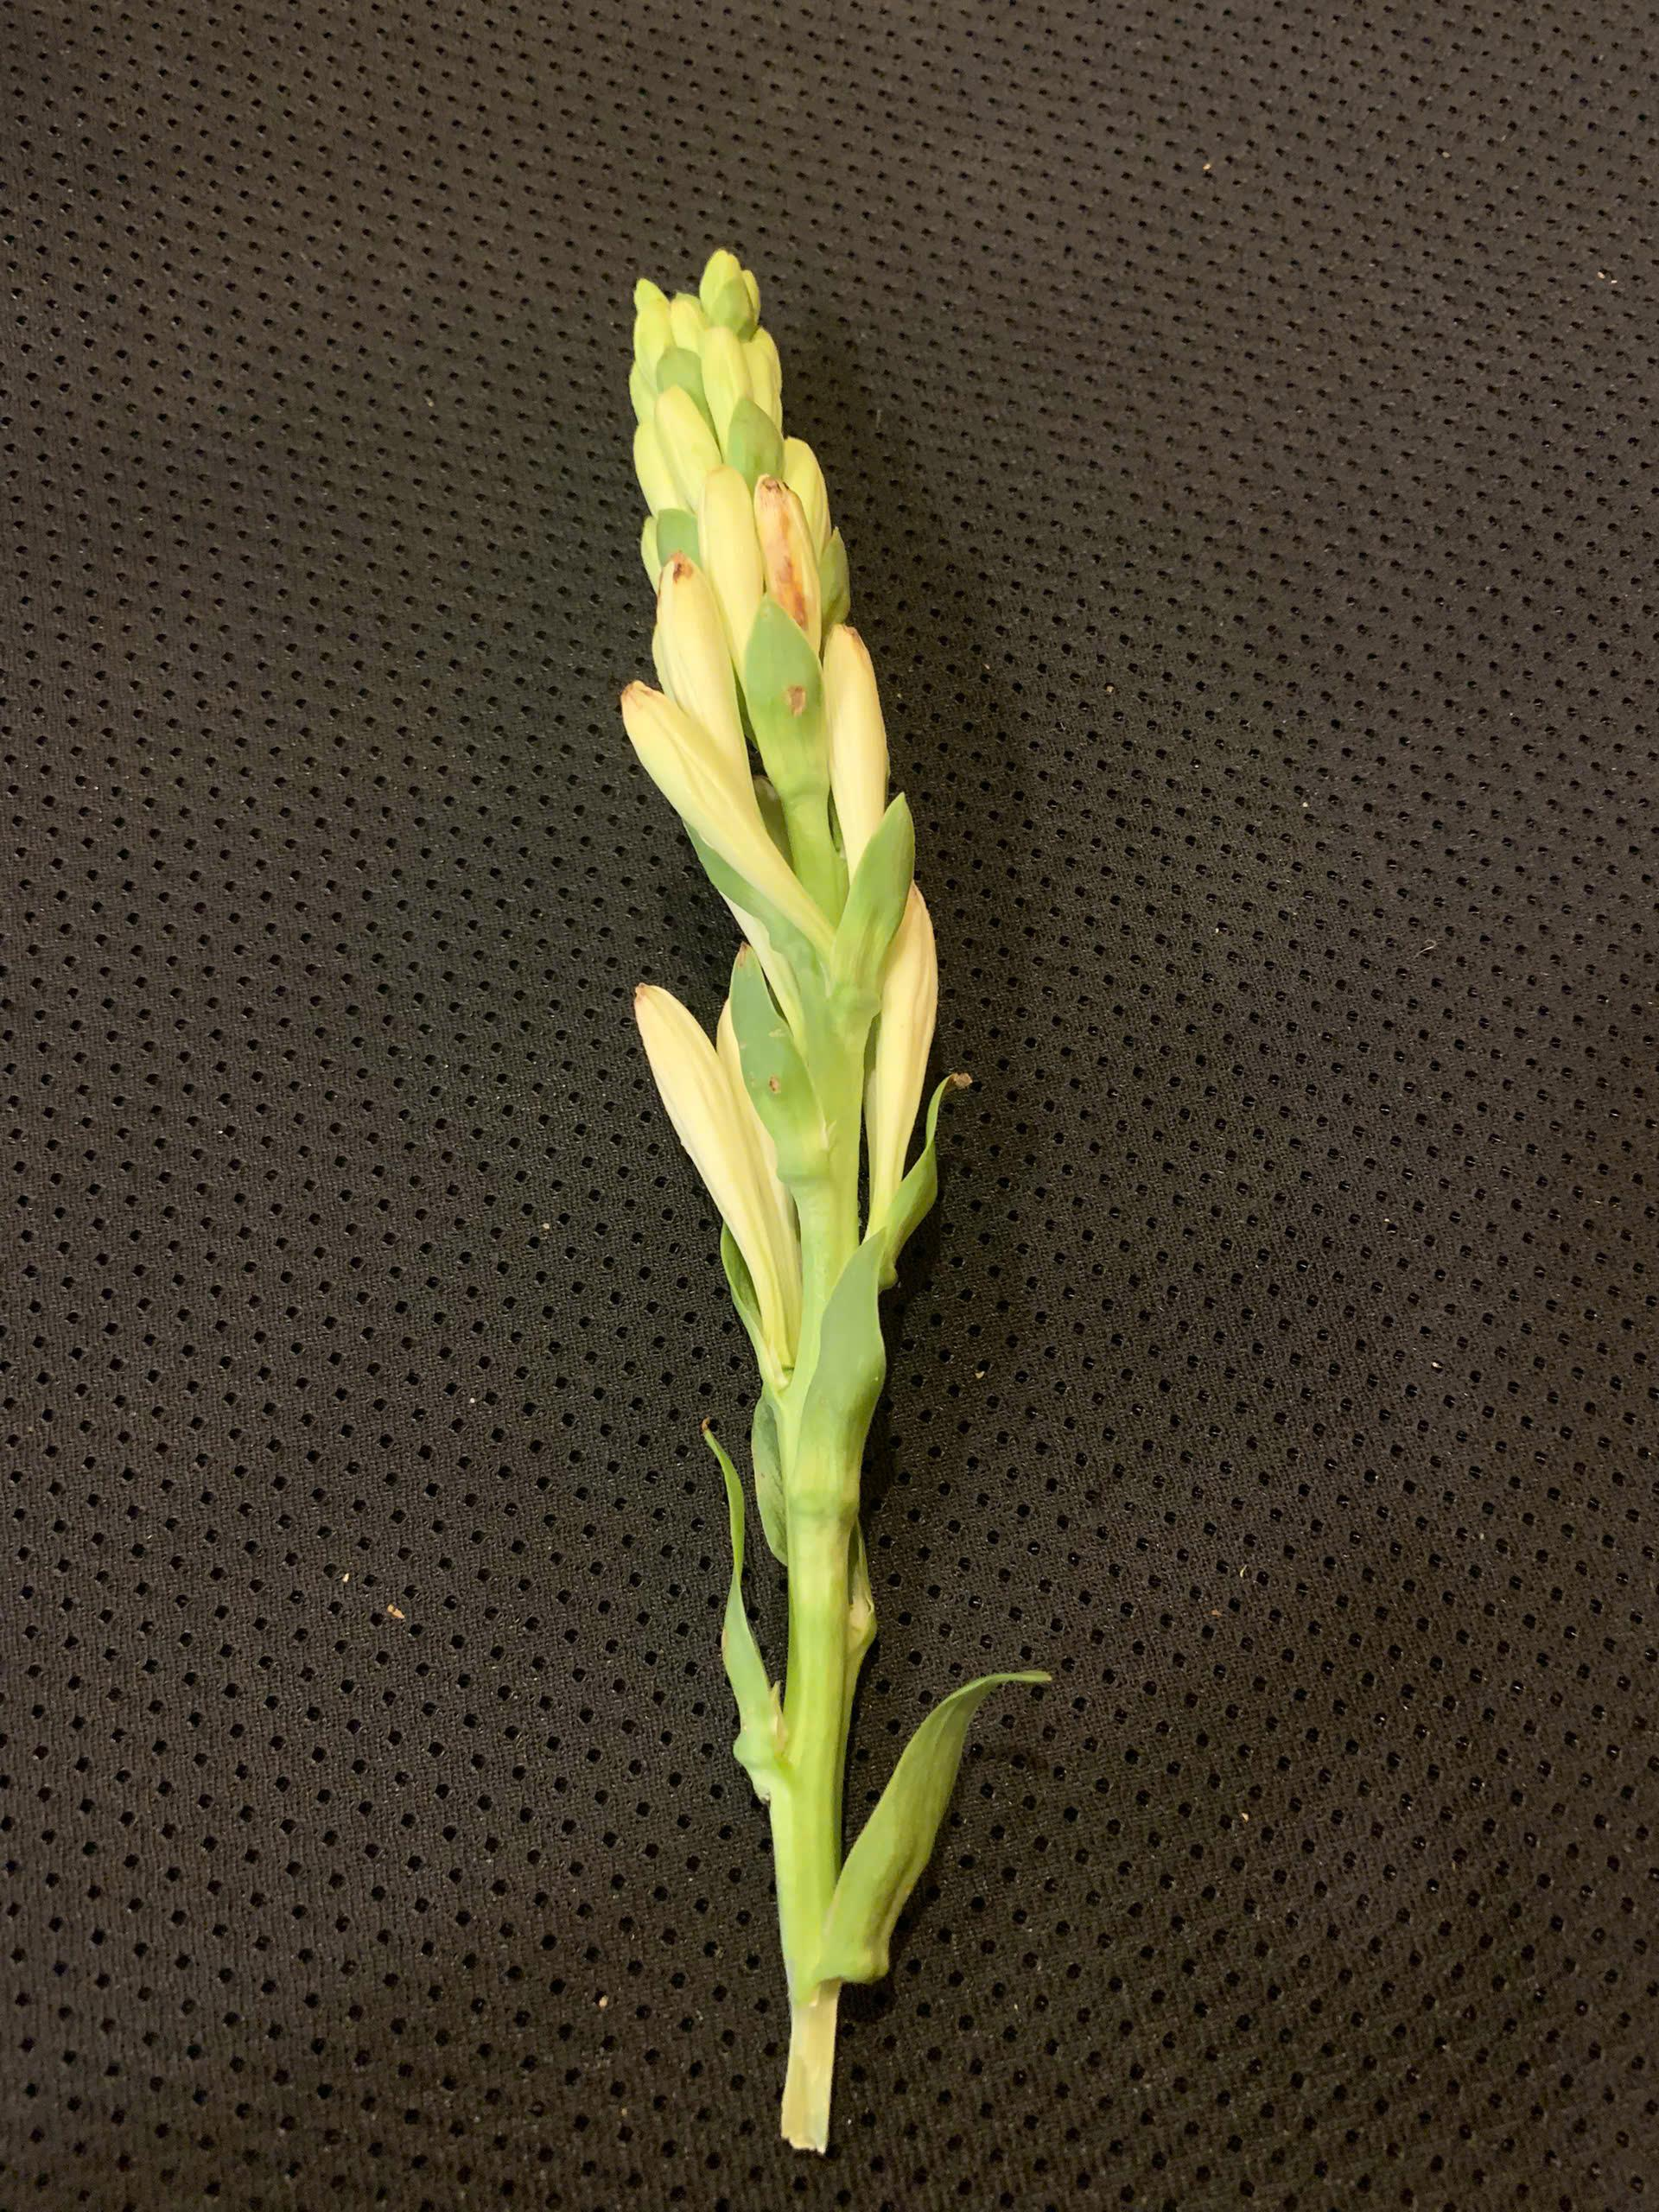Huu co: (619, 233, 1051, 2158)
